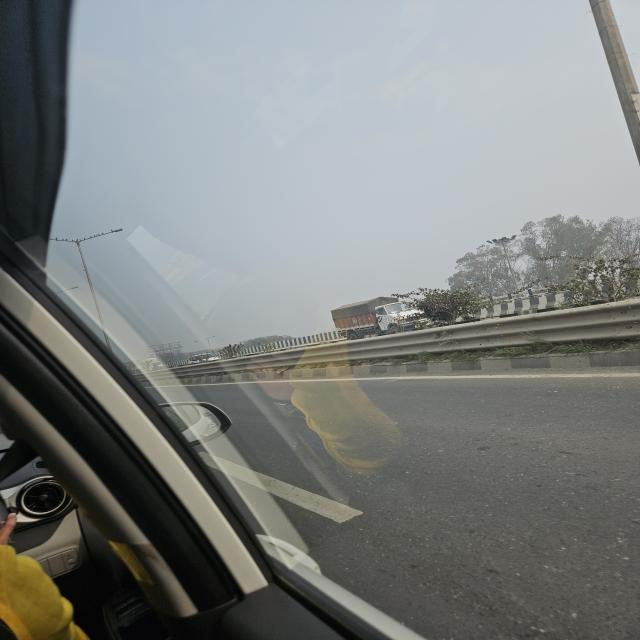covered: (322, 298, 423, 338)
